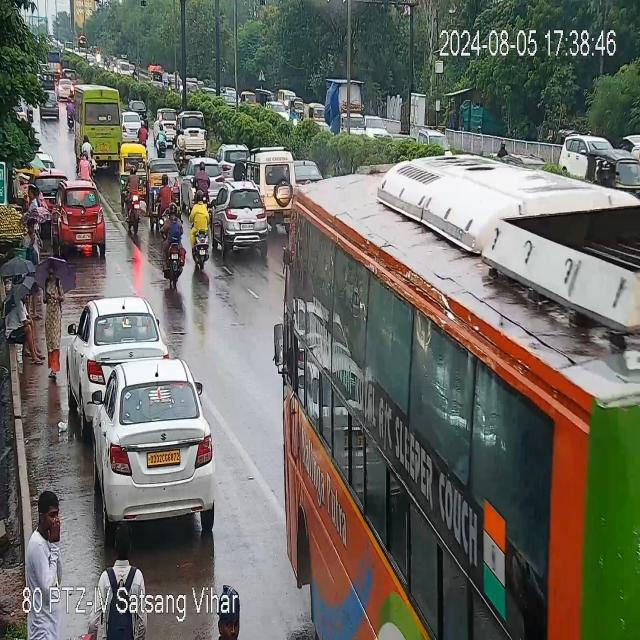2-wheelers: (162, 204, 188, 294), (189, 188, 209, 270), (126, 166, 146, 212), (79, 138, 99, 172), (196, 163, 212, 202), (156, 116, 167, 158), (159, 174, 171, 212), (57, 77, 74, 96), (149, 67, 164, 87), (66, 94, 74, 131), (140, 119, 147, 142), (500, 140, 508, 154)
auto: (102, 532, 142, 631), (148, 150, 183, 229), (212, 575, 252, 640), (117, 140, 149, 220), (589, 143, 640, 192)
bus: (271, 173, 639, 640), (74, 89, 127, 163)
car: (94, 359, 215, 531), (70, 296, 162, 399), (210, 186, 270, 251), (54, 186, 107, 254), (248, 152, 294, 212), (562, 131, 614, 175), (174, 106, 207, 154), (216, 144, 250, 180), (154, 105, 178, 143), (39, 89, 60, 120), (182, 158, 194, 206), (122, 113, 138, 141), (130, 100, 147, 112)
pedestrian: (39, 250, 68, 389), (27, 489, 67, 583), (3, 282, 47, 367), (22, 182, 50, 250)
truck: (327, 80, 361, 138)
